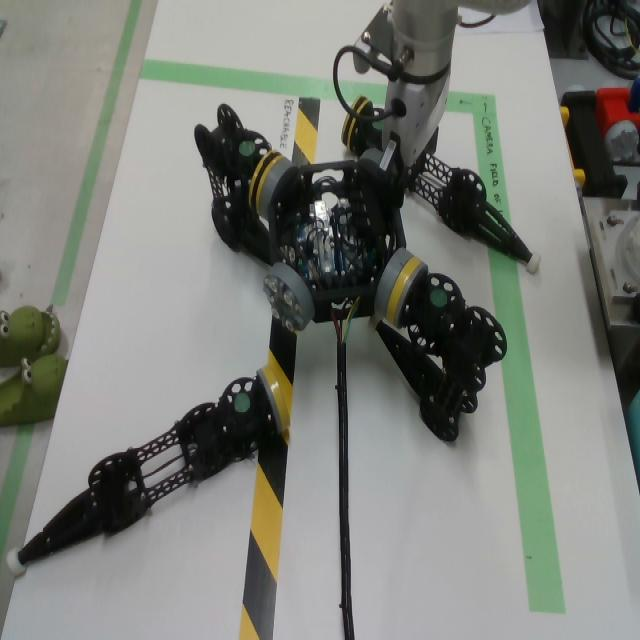body: (268, 160, 407, 324)
body_connector: (263, 263, 314, 331), (374, 248, 413, 316), (259, 159, 297, 220), (358, 148, 384, 172), (381, 161, 398, 185)
gripper: (379, 63, 451, 208)
leg: (4, 364, 290, 576), (367, 256, 508, 443), (405, 153, 541, 275), (194, 103, 282, 265), (342, 96, 385, 159)
leg_connector: (386, 257, 428, 327), (257, 365, 290, 432), (249, 151, 283, 216), (341, 115, 357, 152), (351, 96, 372, 115)
leg_marker: (235, 393, 250, 412), (430, 289, 447, 305), (238, 141, 255, 156), (372, 120, 384, 128)
